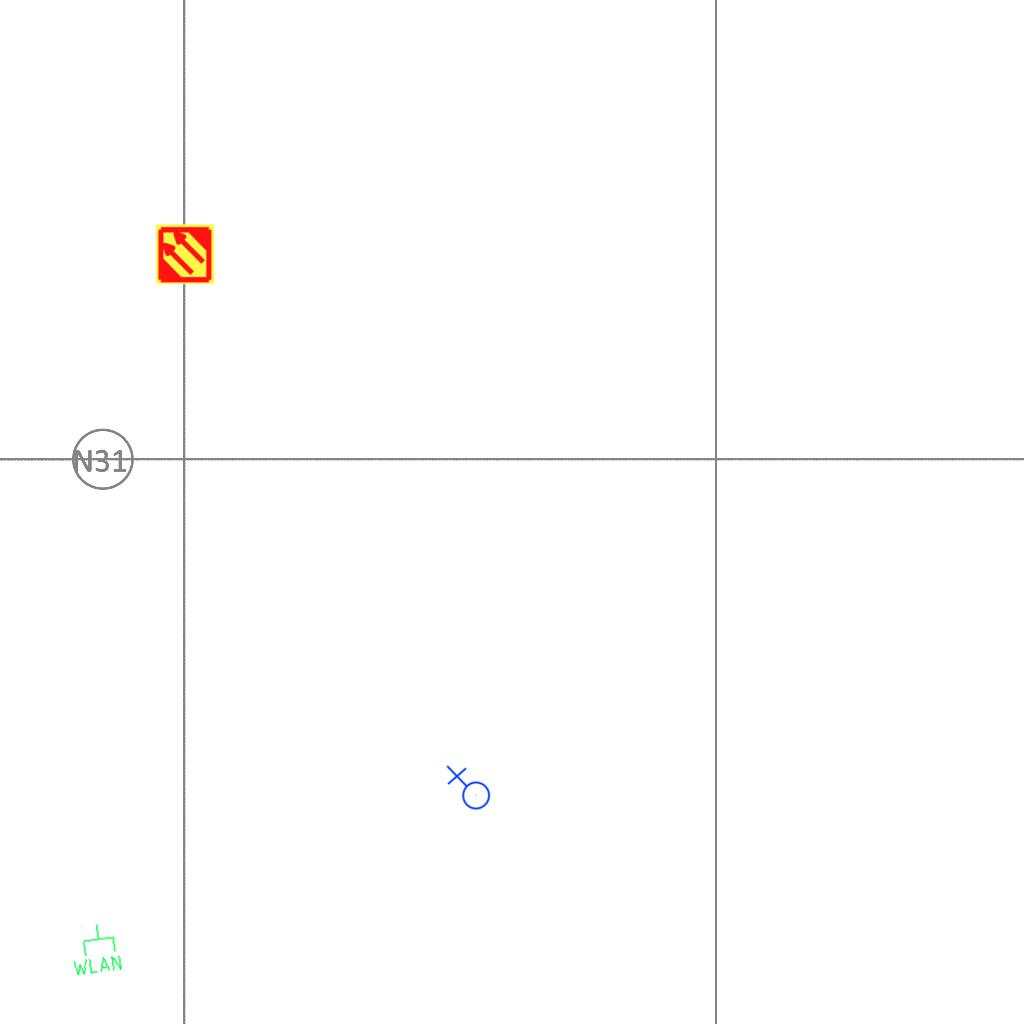ASR_Ansaugrauchmelder: (154, 223, 216, 285)
Elektroanschluss_allgemein_230V_Geraeteanschlussdose_230V: (444, 765, 491, 814)
WLAN: (65, 919, 125, 979)
